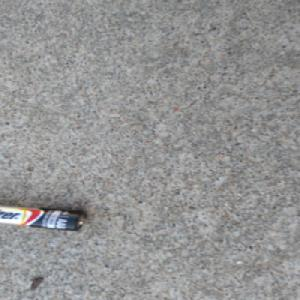Battery: (0, 203, 90, 230)
